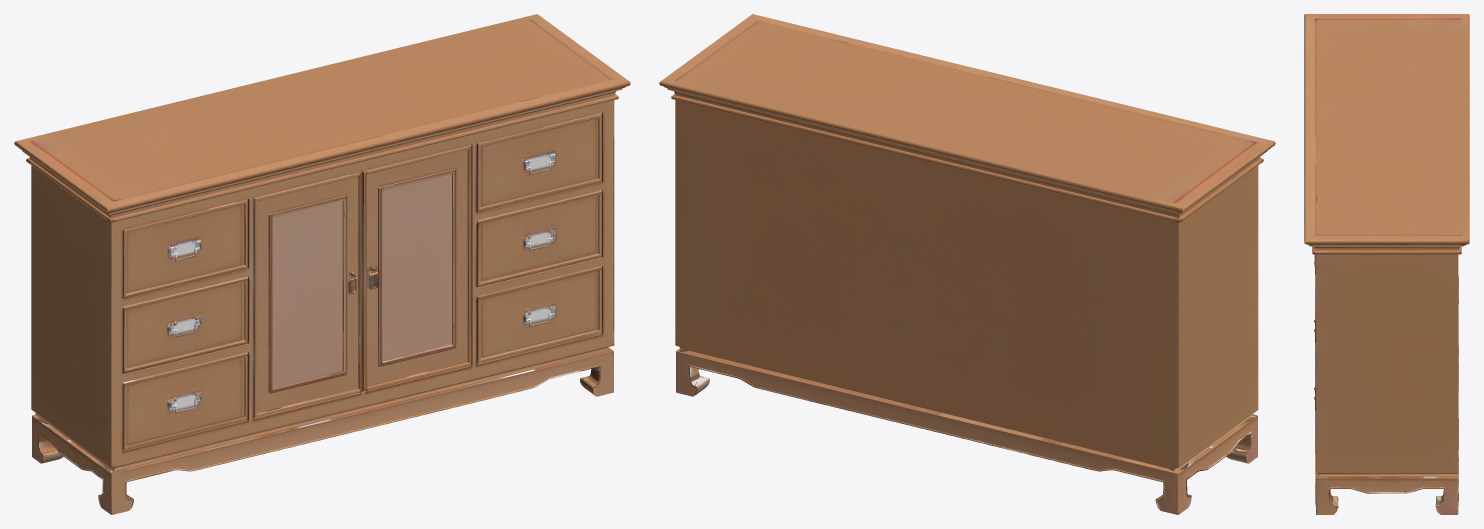
File: edited_mesh.glb
The picture shows the model from 3 angles, left to right: view 1: azimuth 30°, elevation 25°; view 2: azimuth 150°, elevation 25°; view 3: azimuth 270°, elevation 25°; orthographic projection. The views are drawn at different scales.
Parts seen in each view (by area): view 1: solid_001_wire; view 2: solid_001_wire; view 3: solid_001_wire.
Part boxes in pixels (<box>): solid_001_wire: <box>14,14,630,514</box>; solid_001_wire: <box>659,14,1275,514</box>; solid_001_wire: <box>1304,14,1469,514</box>.
Bounding box in the file's own units: 1.86 × 1.07 × 0.5733.
Materials: 1 (1 with a texture image).
